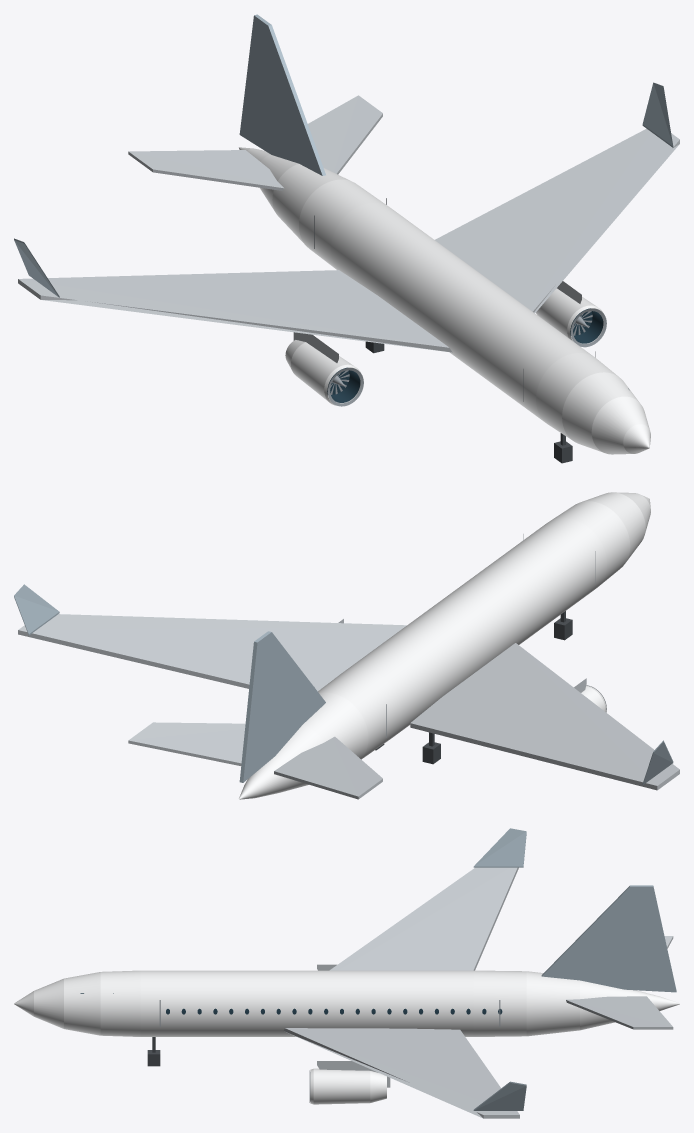
The model's file is generic-neutral-v2.gltf.
The picture shows the model from 3 angles, top to bottom: view 1: azimuth 30°, elevation 25°; view 2: azimuth 150°, elevation 25°; view 3: azimuth 270°, elevation 25°; orthographic projection. The views are drawn at different scales.
Parts seen in each view (by area): view 1: object 1; view 2: object 1, Gear; view 3: object 1.
Part boxes in pixels (box(x1,y1,x2,y2)): object 1: box(14, 14, 679, 454); object 1: box(14, 492, 679, 799); Gear: box(375, 611, 572, 764); object 1: box(14, 828, 679, 1118).
Bounding box in the file's own units: 36 × 11.8 × 40.
